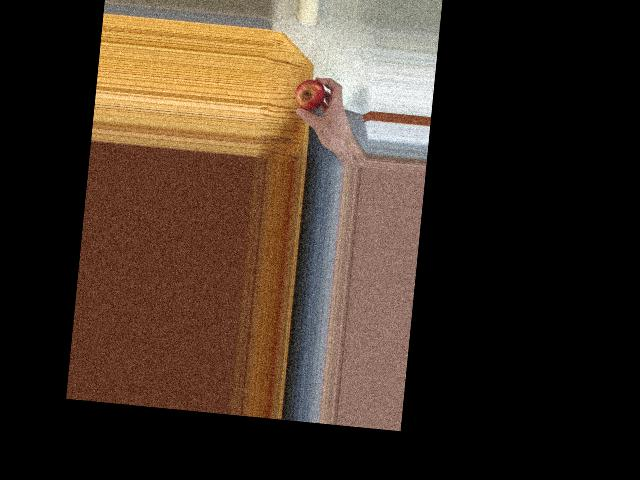apple: (291, 75, 331, 120)
